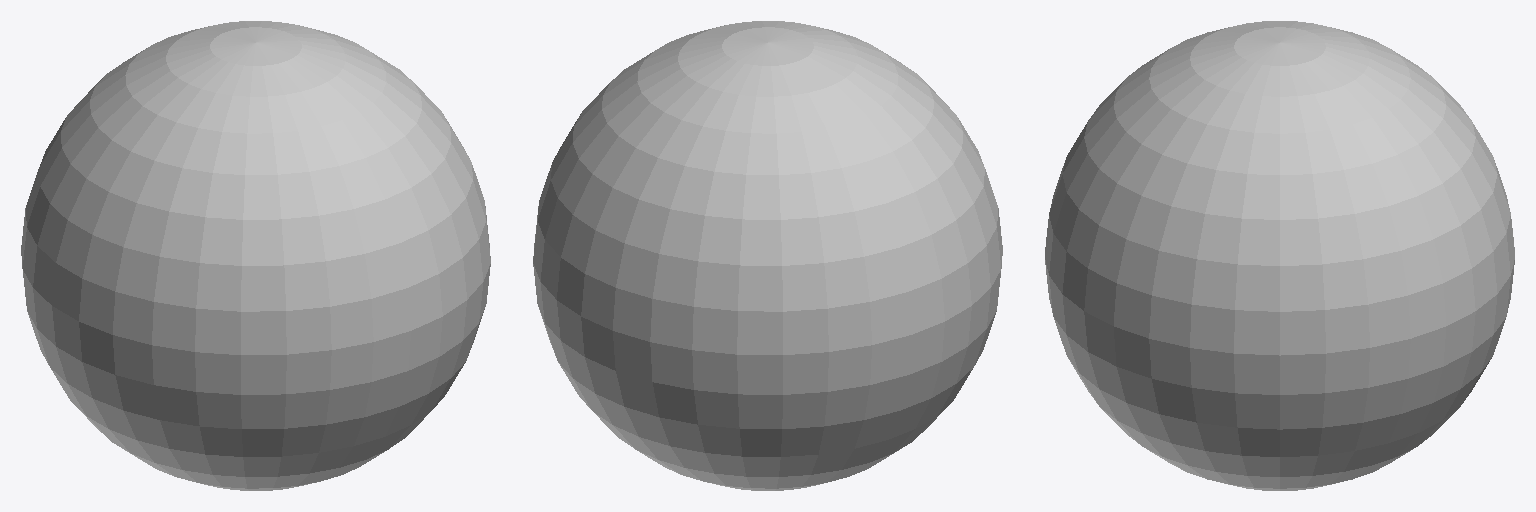
File: cornell3_sphere2_05.obj
3 views of the same model, side by side, from view 1: azimuth 30°, elevation 25°; view 2: azimuth 150°, elevation 25°; view 3: azimuth 270°, elevation 25° (orthographic).
Visible parts, largest first — view 1: Sphere; view 2: Sphere; view 3: Sphere.
Boxes of the visible parts, x1,y1,x2,y2 form: Sphere: [21, 21, 490, 490]; Sphere: [533, 21, 1002, 490]; Sphere: [1045, 21, 1514, 490].
Size of the model in its own units: 0.398 by 0.398 by 0.398.